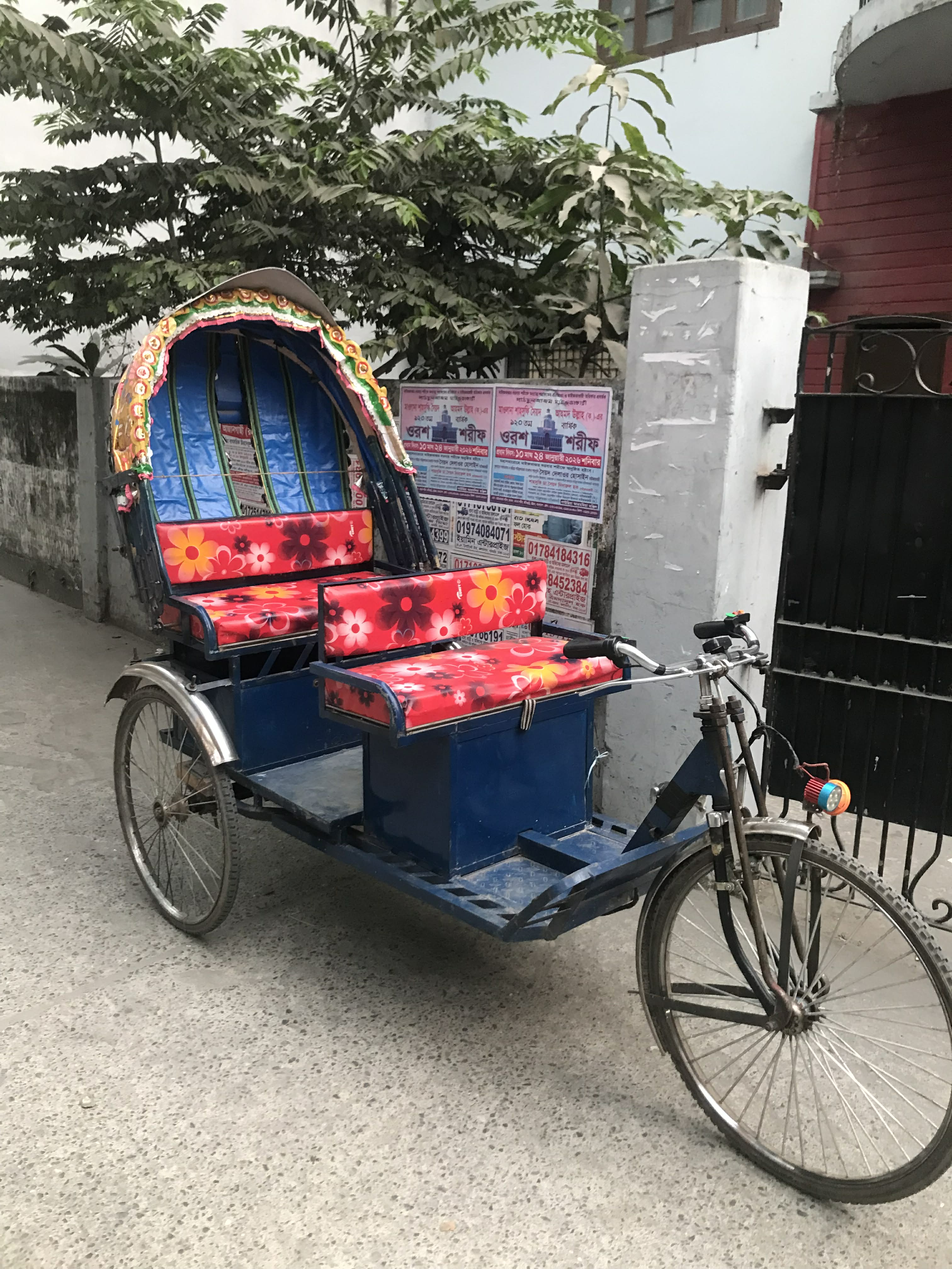auto-ricksaw: (82, 250, 952, 1234)
